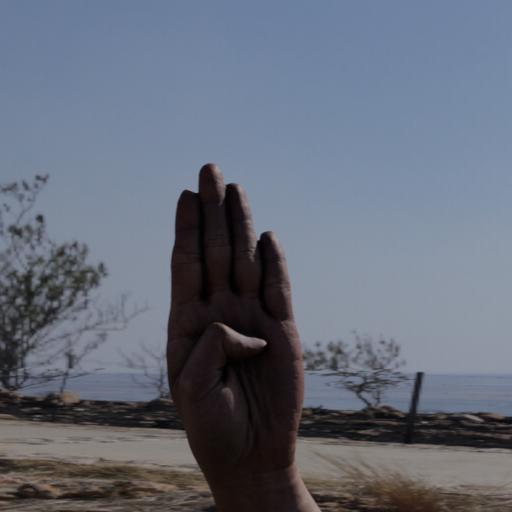B: (166, 158, 310, 470)
